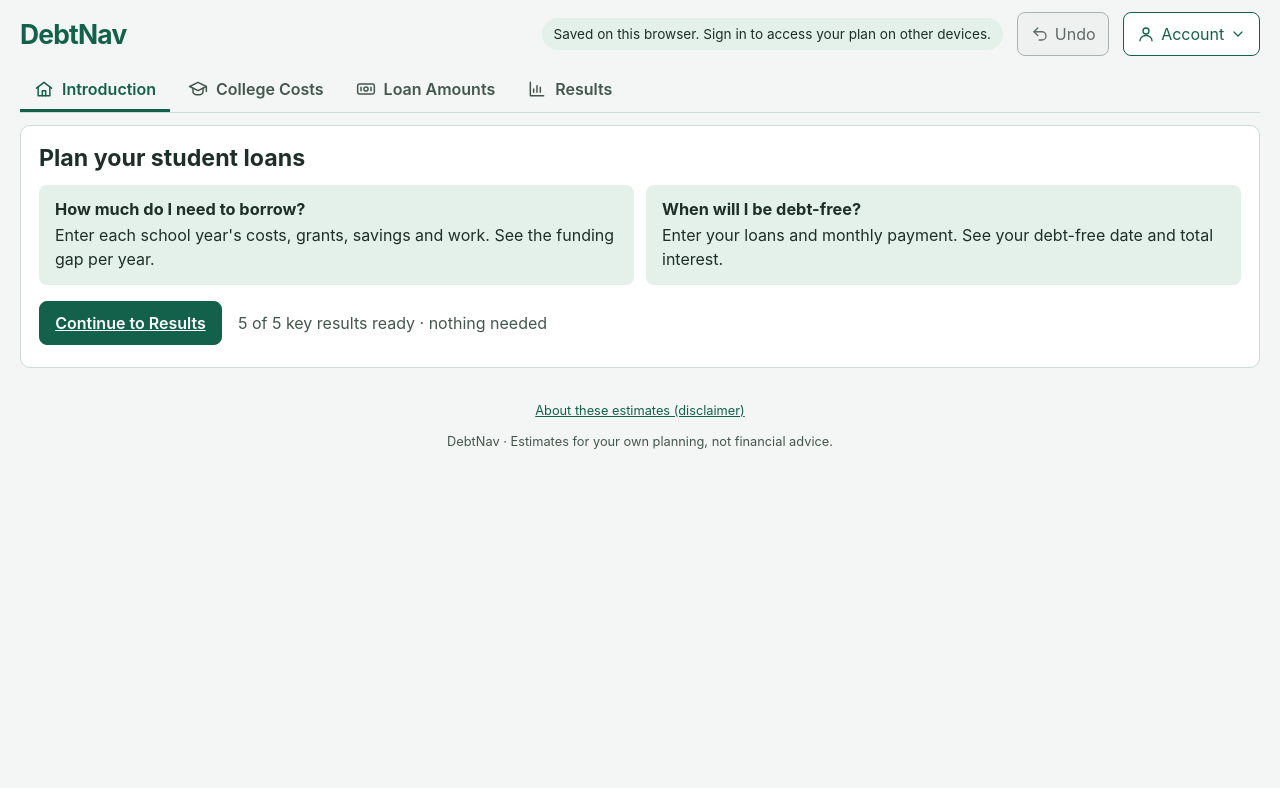
Test: earnings and budget (US-501) › is the only editor of post-graduation earnings, with gross salary, take-home, expenses and the chosen payment kept distinct
Click the link "Results": (570, 88) [527, 78, 612, 98]
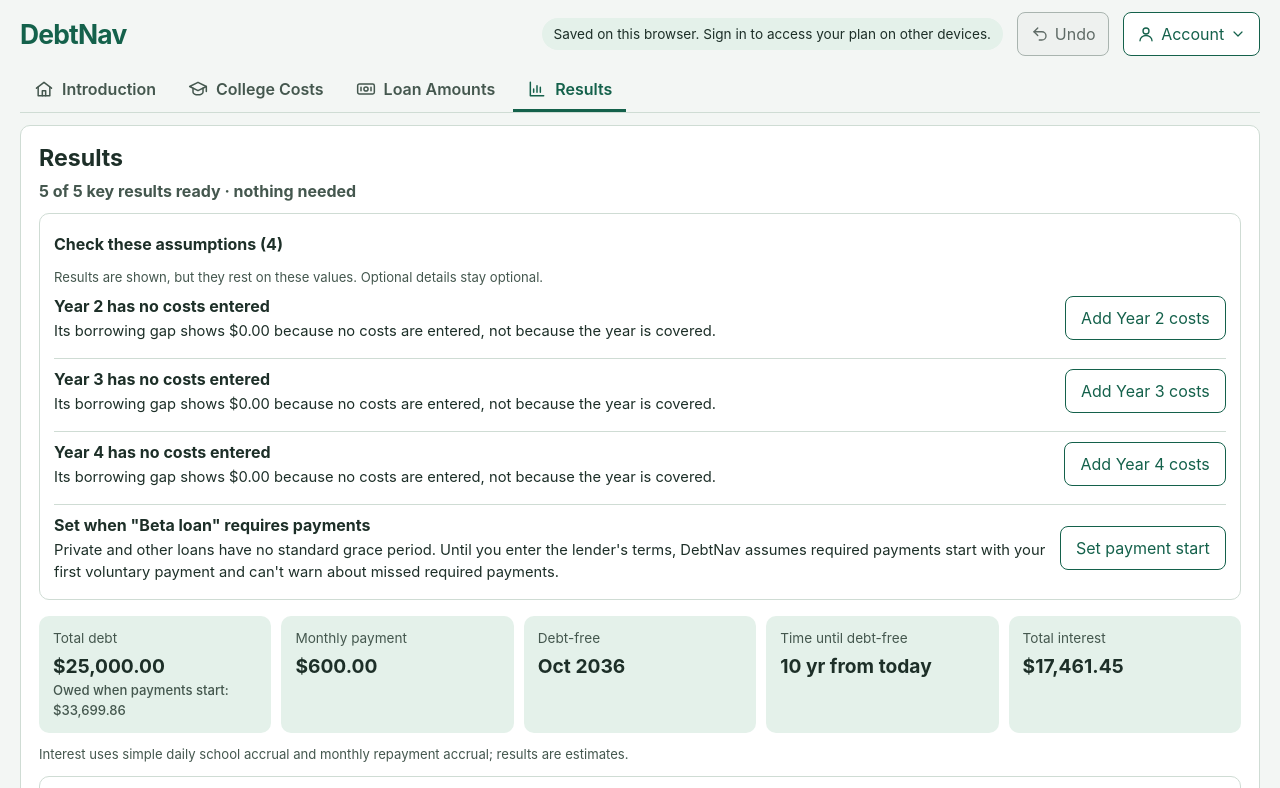
Result: the heading "Results" is shown at [39, 144, 123, 172]
Click the link "College Costs": (256, 88) [188, 78, 324, 98]
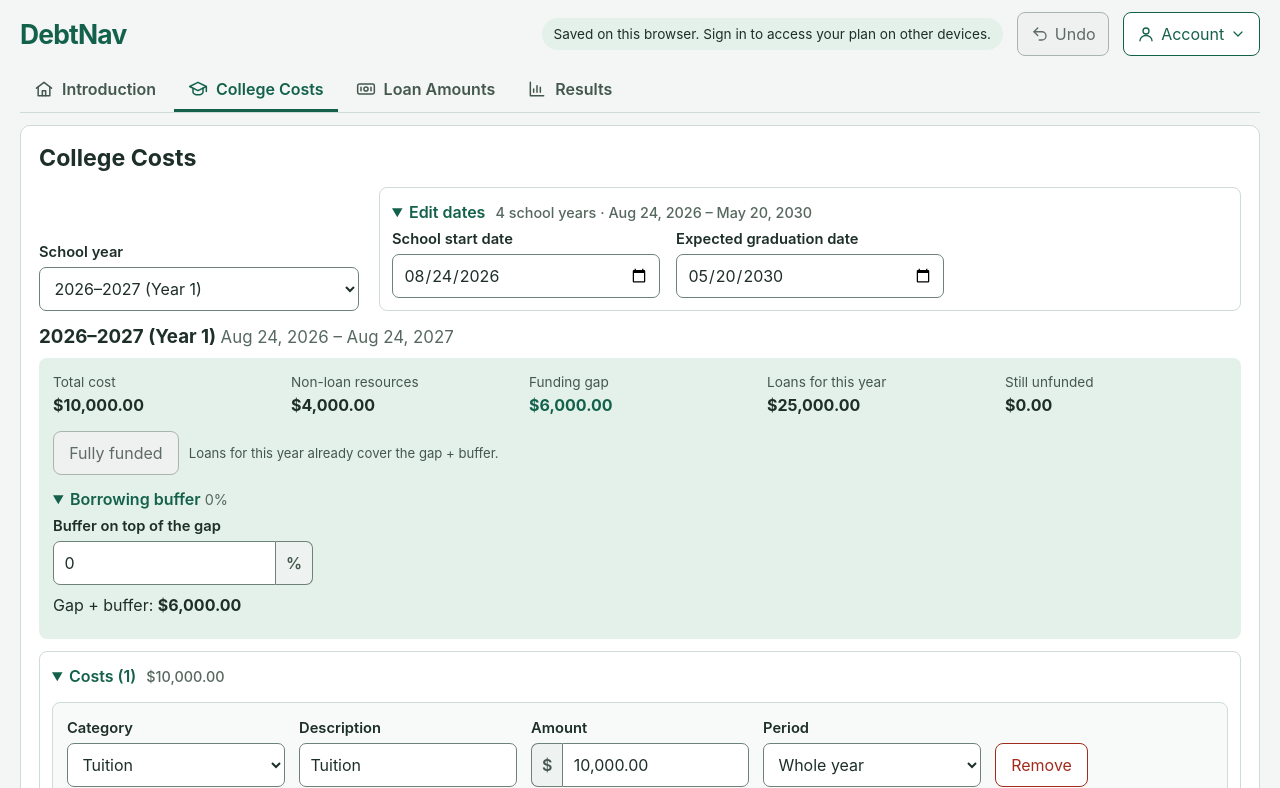
Result: the text labelled "Monthly payment" is gone
